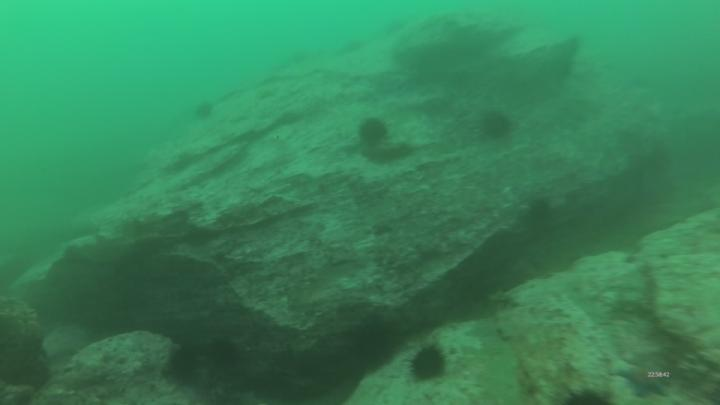echinus: (356, 323, 395, 363), (413, 346, 444, 379), (212, 341, 241, 366), (172, 351, 197, 377), (482, 114, 510, 137), (358, 122, 385, 144), (528, 201, 550, 223), (196, 104, 212, 117)
starfish: (622, 366, 668, 399)
